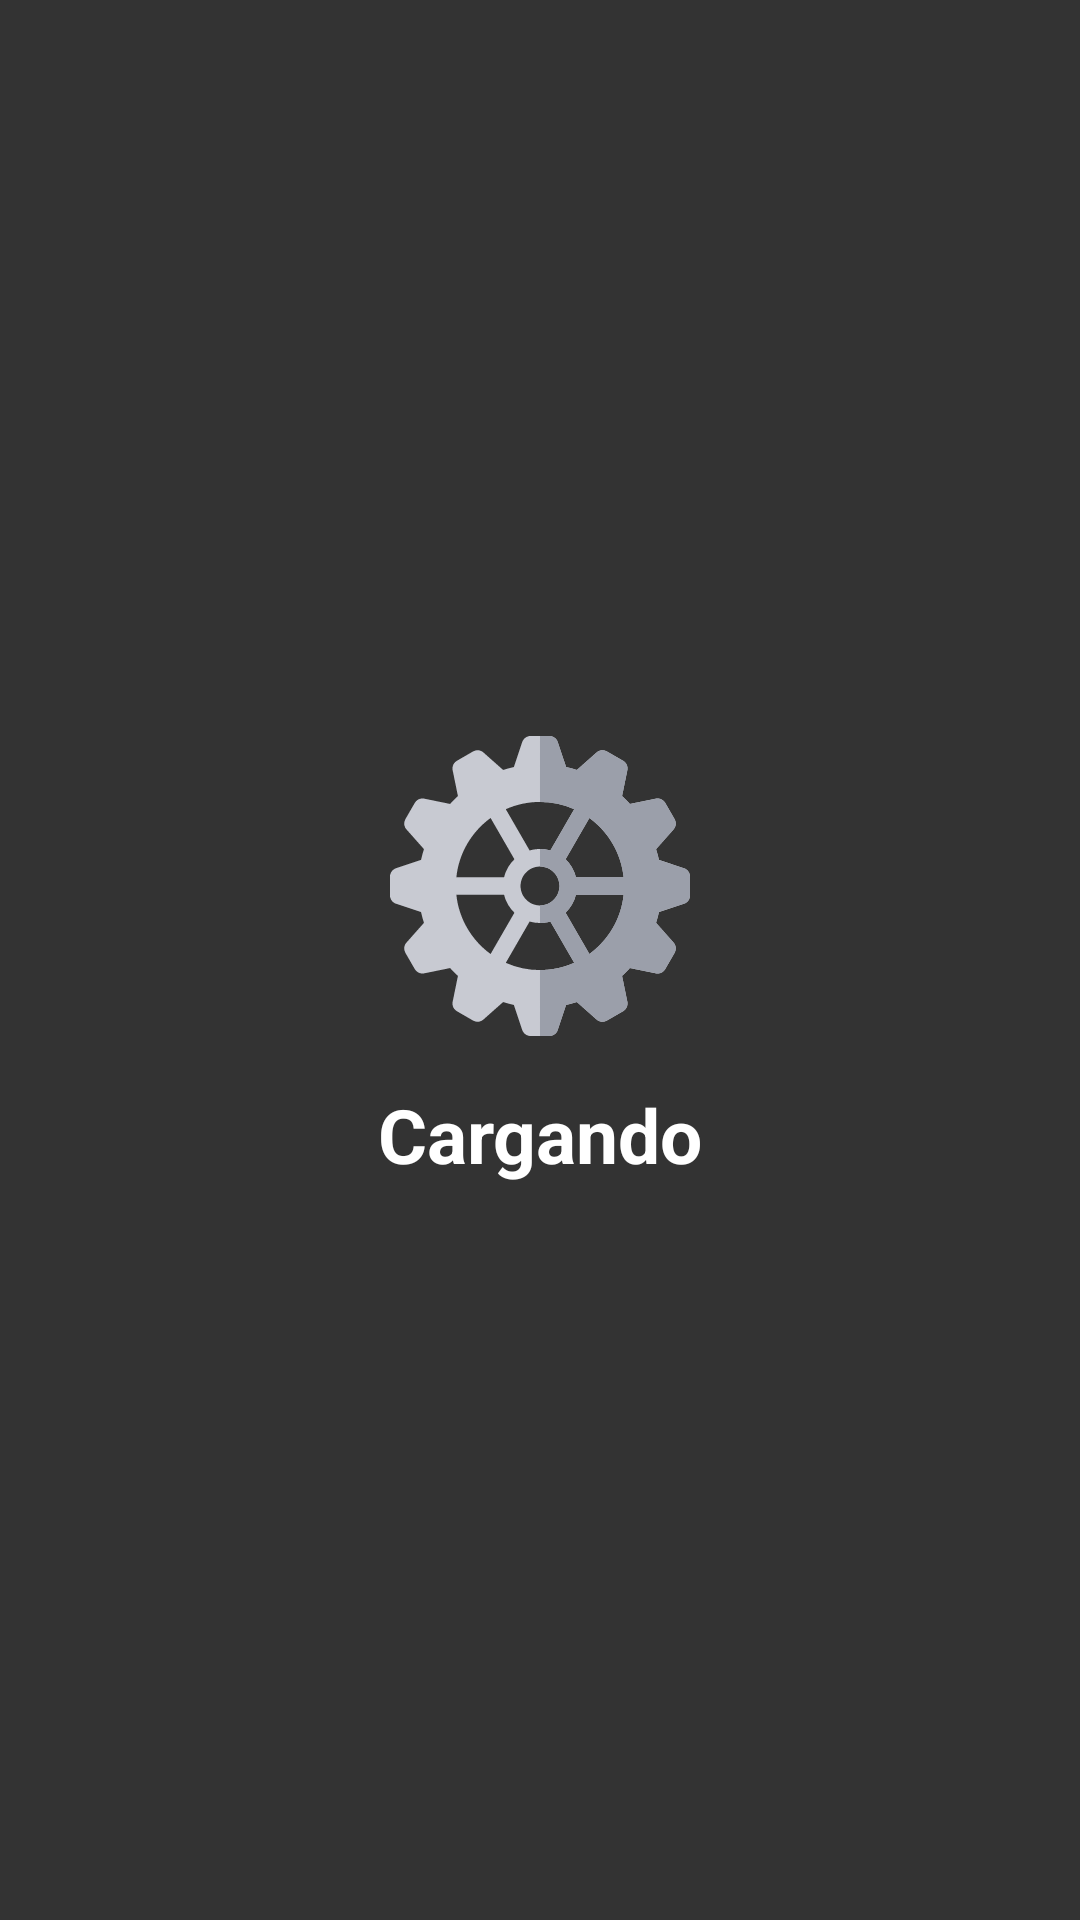

Named icons in this screenshot (1080px x 1920px) and their bounding boxes, (x1,y1,x2,y2):
engine: (390,736,690,1036)
